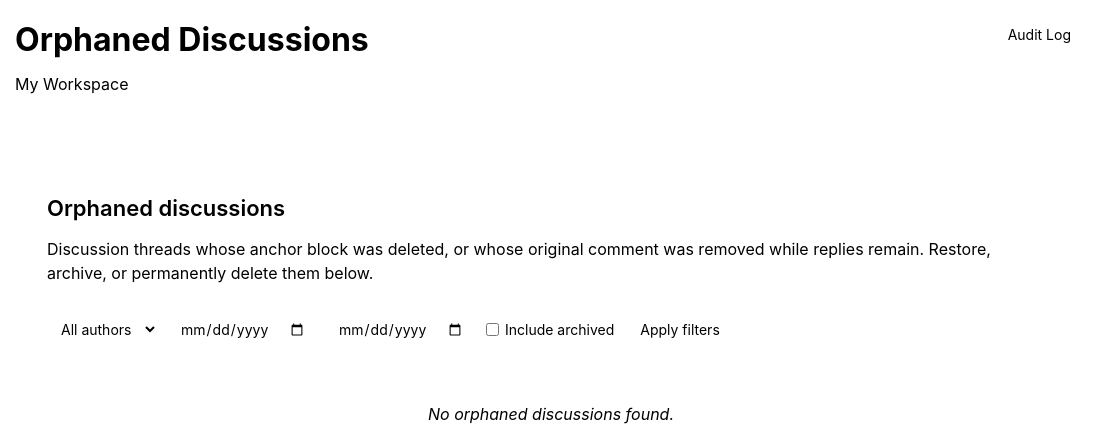
Test case: OrphanedDiscussionsPanel › switches to the audit log tab and loads entries
Click the button "Audit Log": x=1039, y=34 [992,16,1087,53]
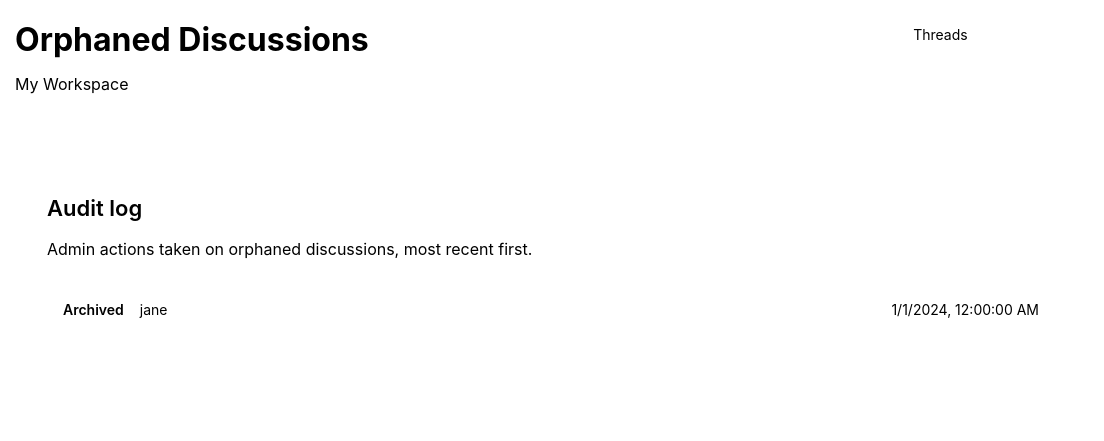
Expected: the text "archived" is shown, [63,299,124,320]
Expected: the text "jane" is shown, [140,299,168,320]
